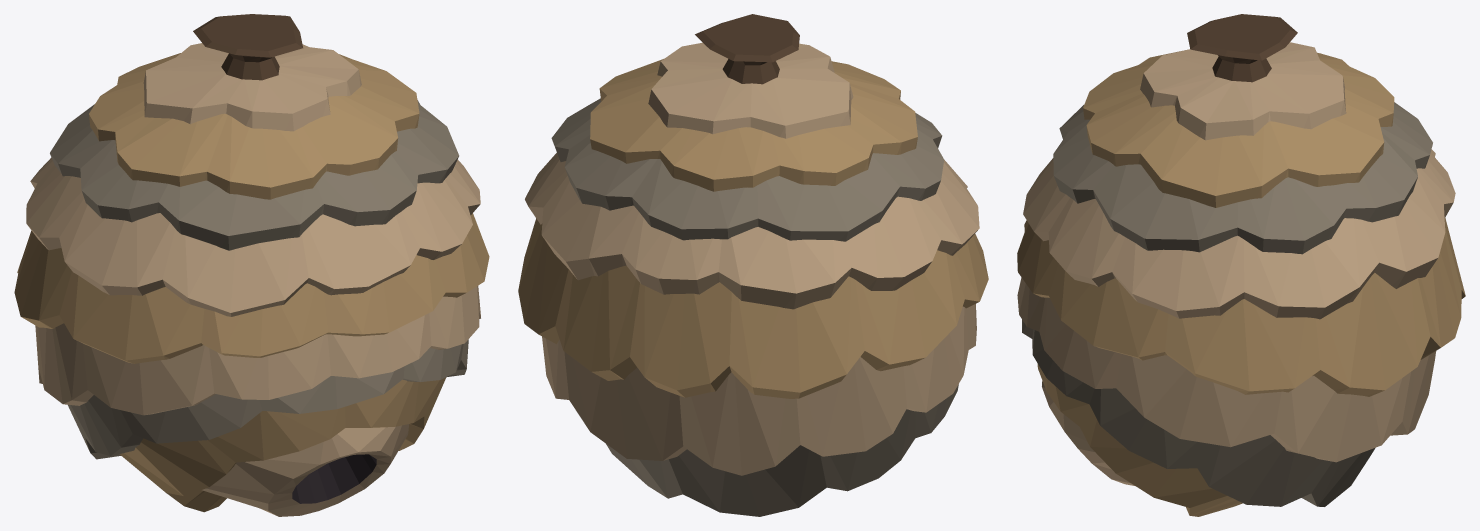
File: wasp-paper-nest-68a6c0.glb
3 views of the same model, side by side, from view 1: azimuth 30°, elevation 25°; view 2: azimuth 150°, elevation 25°; view 3: azimuth 270°, elevation 25° (orthographic).
Visible parts, largest first — view 1: wasp-paper-nest-mesh; view 2: wasp-paper-nest-mesh; view 3: wasp-paper-nest-mesh.
Part boxes in pixels (box(x1,y1,x2,y2)): wasp-paper-nest-mesh: box(14, 14, 489, 516); wasp-paper-nest-mesh: box(518, 14, 988, 516); wasp-paper-nest-mesh: box(1017, 14, 1465, 516).
Bounding box in the file's own units: 22.57 × 24 × 20.82.
